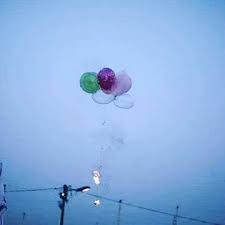Balloon: (98, 68, 116, 94), (111, 73, 132, 95), (79, 72, 100, 93), (113, 94, 135, 110)
